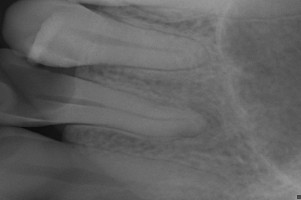Furcation Involvement: (187, 102, 224, 136)
